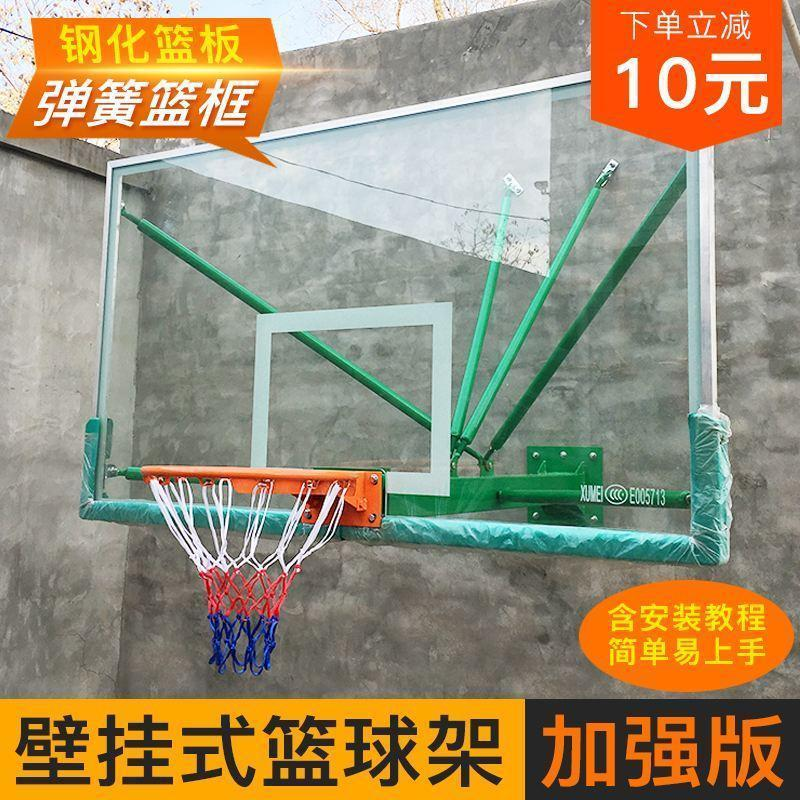rim: (135, 464, 355, 675)
